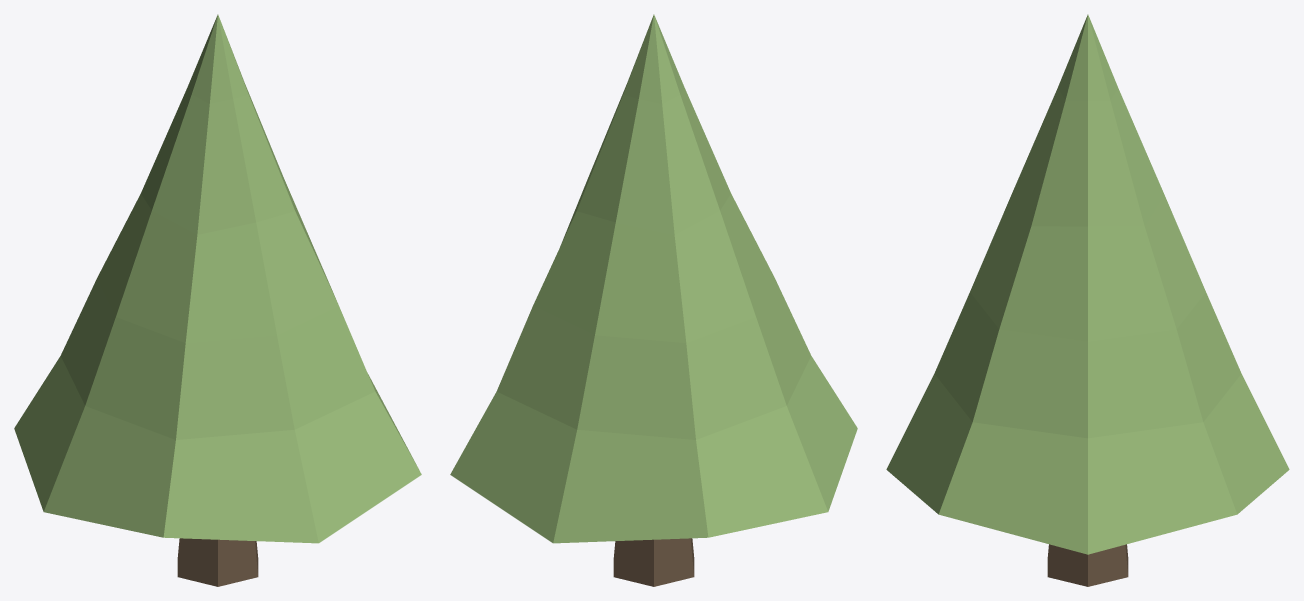
File: Tree_010.fbx
The picture shows the model from 3 angles, left to right: view 1: azimuth 30°, elevation 25°; view 2: azimuth 150°, elevation 25°; view 3: azimuth 270°, elevation 25°; orthographic projection.
Visible parts, largest first — view 1: Tree_010; view 2: Tree_010; view 3: Tree_010.
Boxes of the visible parts, x1=… form: Tree_010: x1=14, y1=14, x2=421, y2=586; Tree_010: x1=450, y1=14, x2=857, y2=586; Tree_010: x1=886, y1=14, x2=1289, y2=586.
Bounding box in the file's own units: 25.1 × 38.06 × 25.15.
